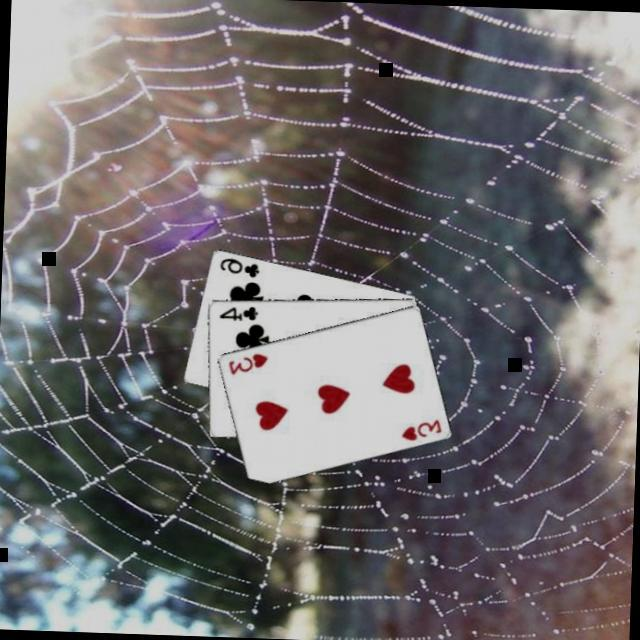3H: (397, 412, 444, 442), (223, 347, 269, 377)
4C: (215, 300, 260, 322)
6C: (215, 252, 261, 279)
